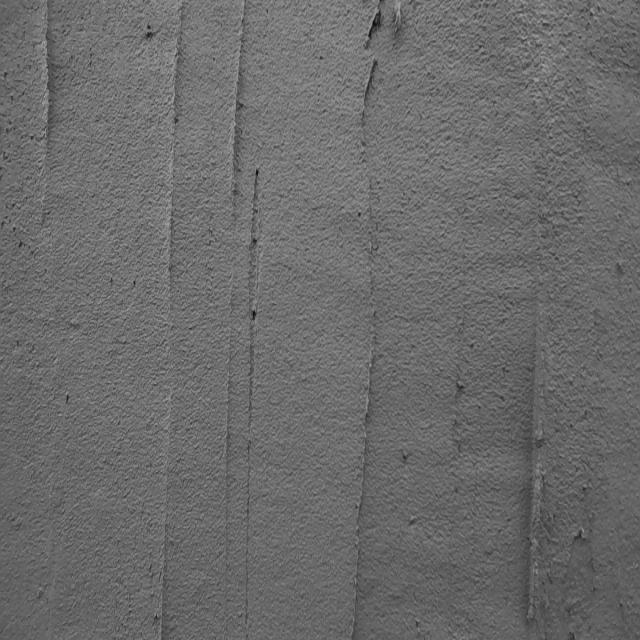trowels marks: (157, 4, 188, 640), (356, 303, 372, 640), (529, 292, 544, 635), (227, 7, 244, 242), (39, 2, 54, 204)
